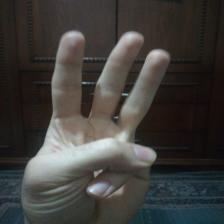five: (32, 23, 167, 217)
